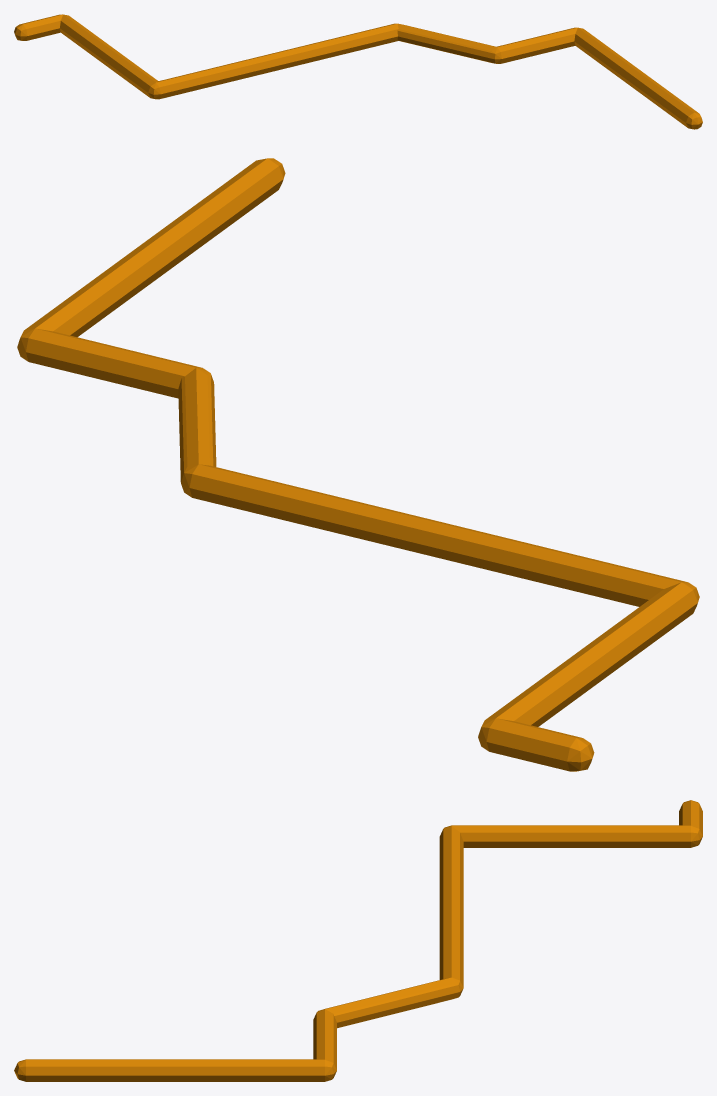
The picture shows the model from 3 angles, top to bottom: view 1: azimuth 30°, elevation 25°; view 2: azimuth 150°, elevation 25°; view 3: azimuth 270°, elevation 25°; orthographic projection. The views are drawn at different scales.
Size of the model in its own units: 533 by 20 by 576.
